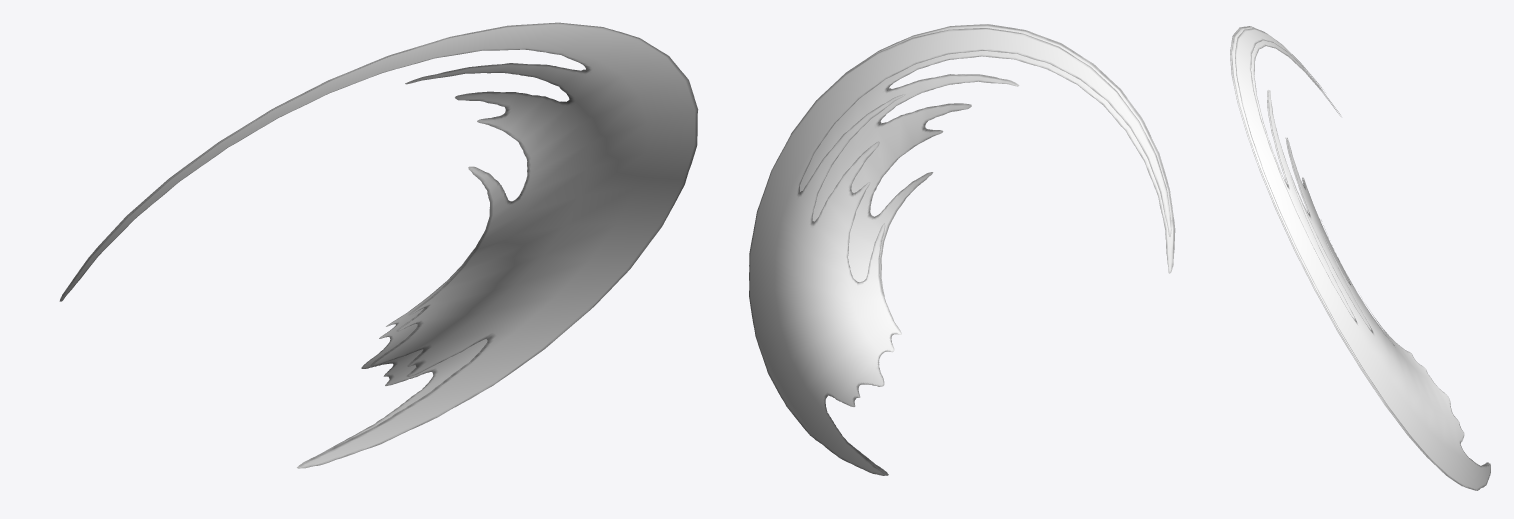
Rendered from fx_m10212_skill01.fbx.
3 views of the same model, side by side, from view 1: azimuth 30°, elevation 25°; view 2: azimuth 150°, elevation 25°; view 3: azimuth 270°, elevation 25° (orthographic). The views are drawn at different scales.
Parts seen in each view (by area): view 1: trail_alpha, trail_add, trail_add_2; view 2: trail_add, trail_add_2, trail_alpha; view 3: trail_add, trail_add_2, trail_alpha.
Boxes of the visible parts, x1,y1,x2,y2 form: trail_alpha: (60, 23, 698, 468); trail_add: (90, 57, 487, 465); trail_add_2: (59, 22, 638, 467); trail_add: (749, 28, 1171, 475); trail_add_2: (782, 24, 1174, 475); trail_alpha: (845, 24, 1175, 474); trail_add: (1235, 28, 1490, 490); trail_add_2: (1231, 26, 1489, 476); trail_alpha: (1230, 26, 1487, 486).
Size of the model in its own units: 530 by 459 by 268.
